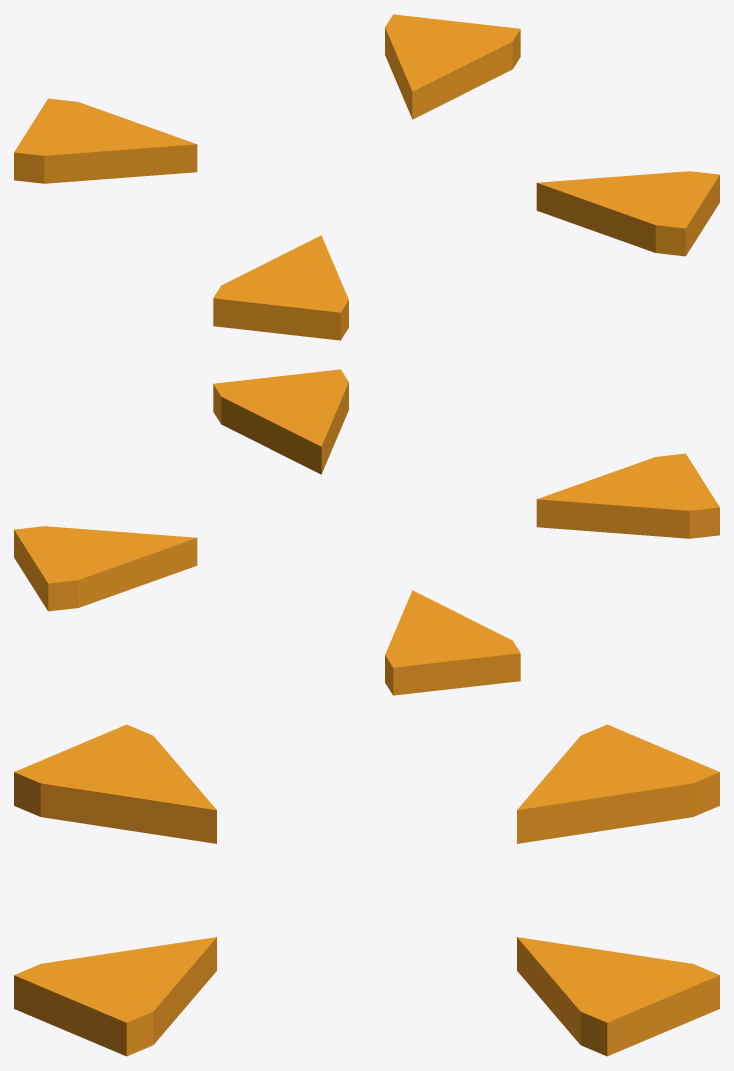
Rendered from SM_Icon_SelectionRing_09.fbx.
3 views of the same model, one above another, from view 1: azimuth 30°, elevation 25°; view 2: azimuth 150°, elevation 25°; view 3: azimuth 270°, elevation 25° (orthographic). The views are drawn at different scales.
Visible parts, largest first — view 1: SM_Icon_SelectionRing_09; view 2: SM_Icon_SelectionRing_09; view 3: SM_Icon_SelectionRing_09.
Boxes of the visible parts, box(x1,y1,x2,y2) form: SM_Icon_SelectionRing_09: box(14, 14, 719, 340); SM_Icon_SelectionRing_09: box(14, 369, 719, 695); SM_Icon_SelectionRing_09: box(14, 724, 719, 1056).
Size of the model in its own units: 69.78 by 3.67 by 69.78.
